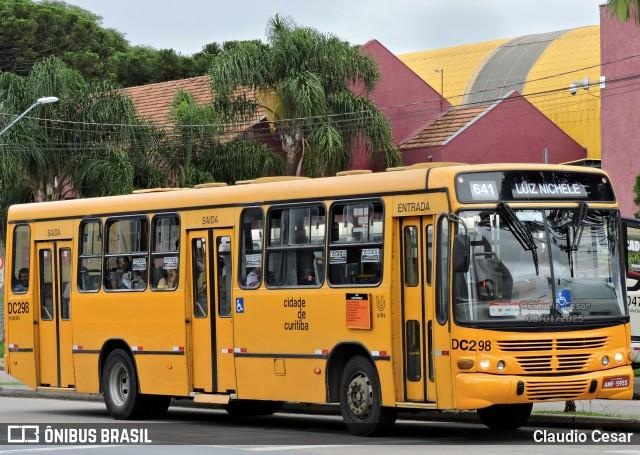LUIZ NICHELE: (511, 179, 582, 197)
